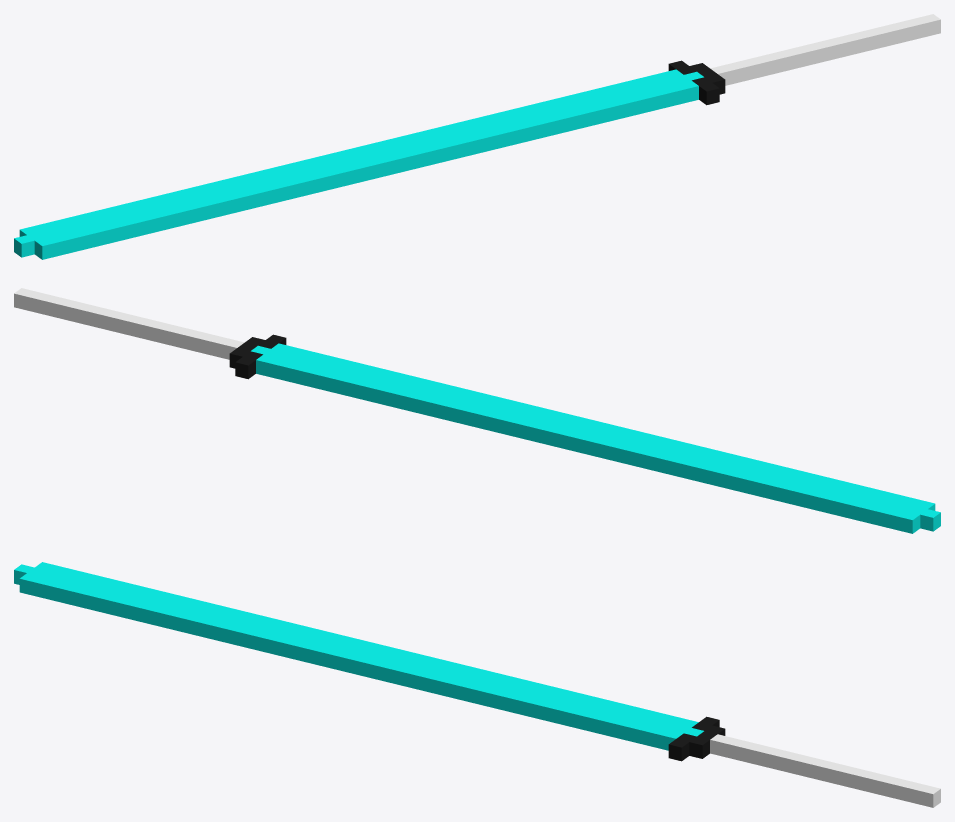
File: Weapons-4.obj
3 views of the same model, one above another, from view 1: azimuth 30°, elevation 25°; view 2: azimuth 150°, elevation 25°; view 3: azimuth 330°, elevation 25° (orthographic).
Bounding box in the file's own units: 7 × 0.1 × 0.5.
